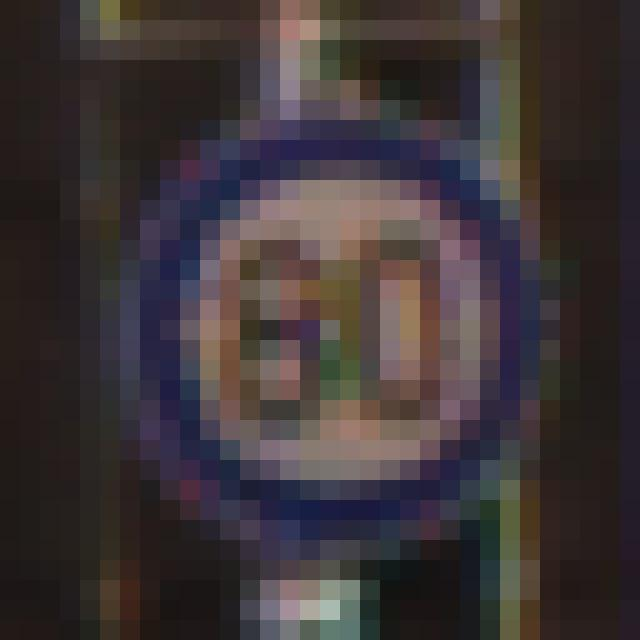SPEED-LIMIT-80: (124, 115, 544, 556)
